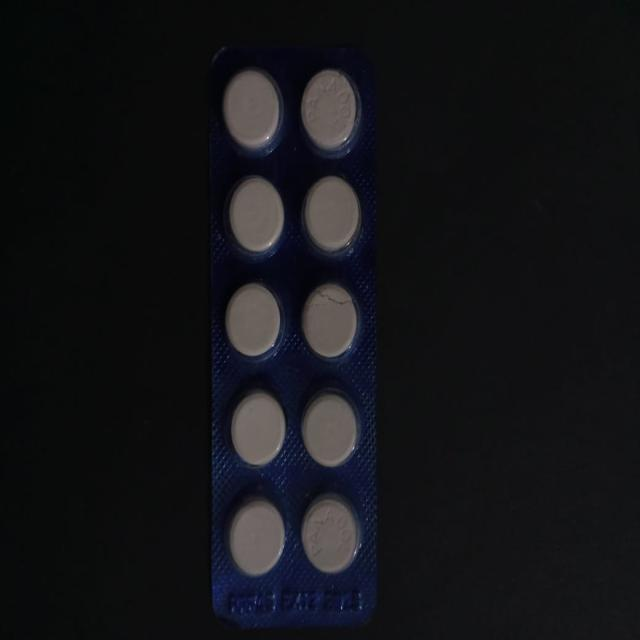defect: (299, 279, 362, 362)
